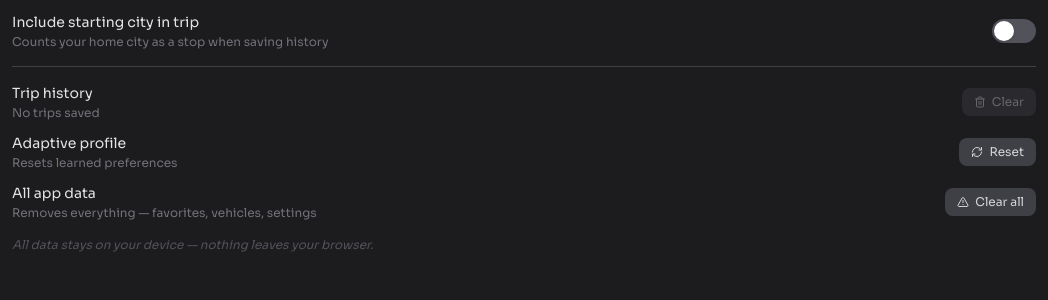
it: PrivacySection › first click on clear-all shows "Confirm?" (two-tap gate)
Click the button "Clear all" at (991, 202), box [945,188,1036,216]
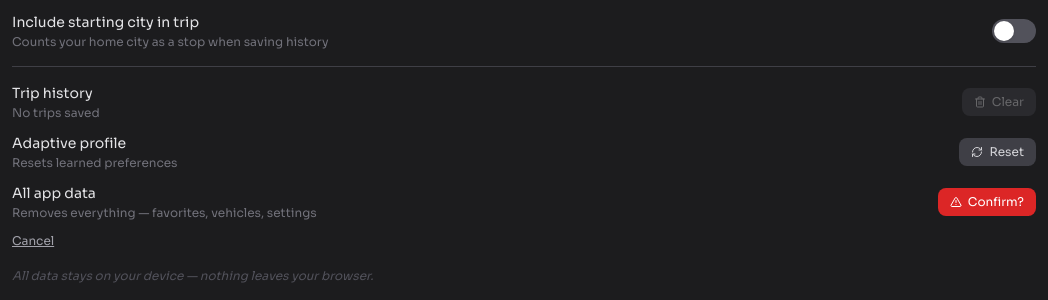
Expected: the button "Confirm?" is shown, [938,188,1036,216]
